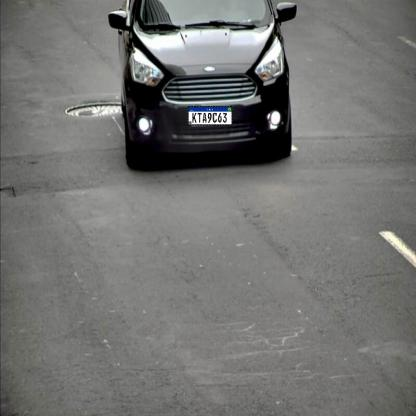PlacaM: (188, 106, 232, 126)
